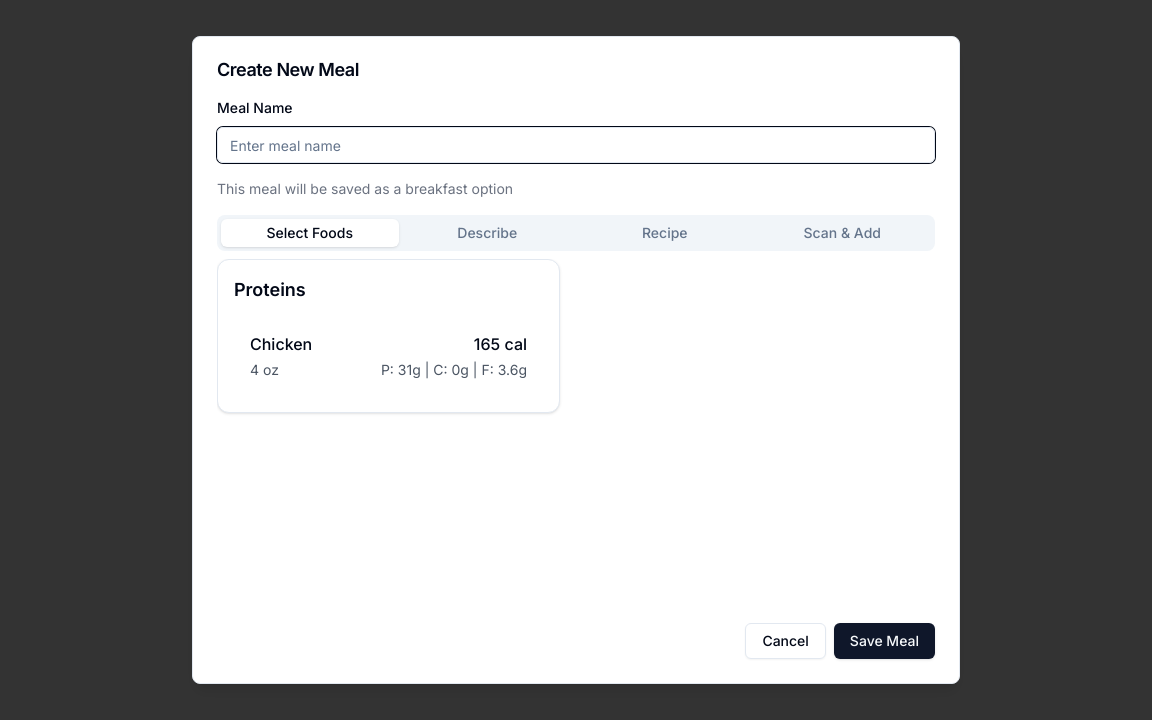
Test: MealEditor › displays correct serving size and calories when food is selected
The width and height of the screenshot is (1152, 720).
// Click the food item to select it
Click the heading "Chicken".
click(281, 344)  # box x1=250 y1=332 x2=312 y2=356
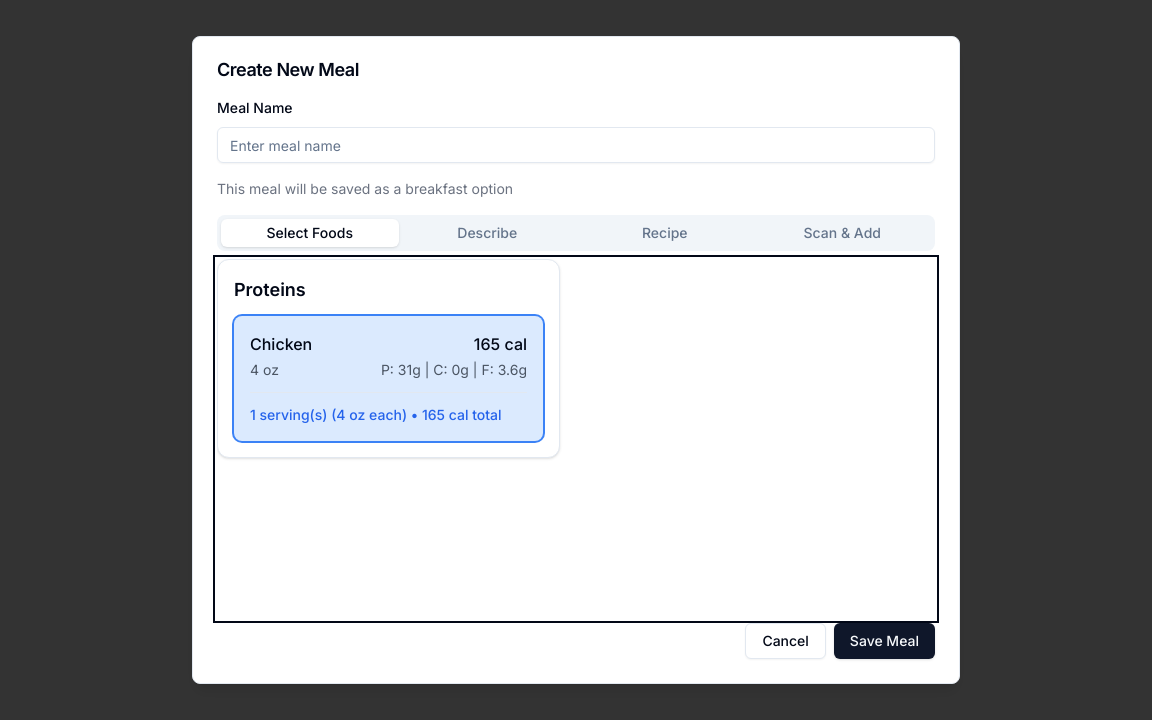
Expected: the text "4 oz" is shown, x1=250 y1=361 x2=279 y2=378
Result: the text "1 serving(s) (4 oz each) • 165 cal total" is shown at x1=250 y1=405 x2=502 y2=425
